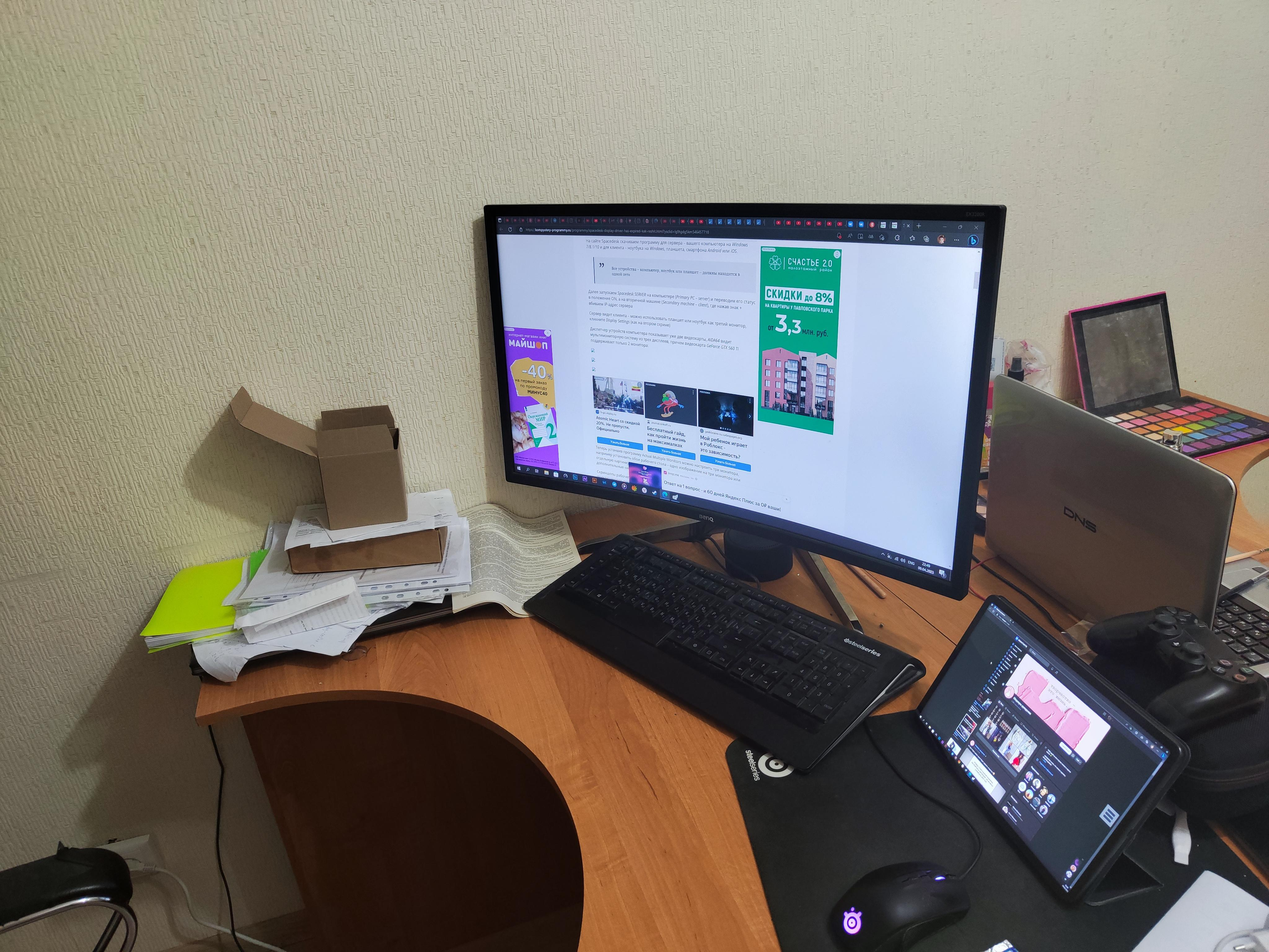monitor: (477, 198, 1012, 606)
